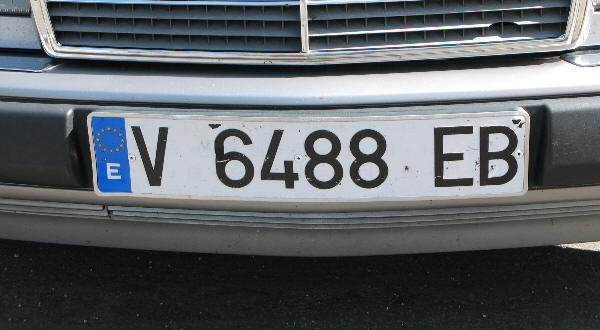license_plate: (87, 114, 527, 198)
